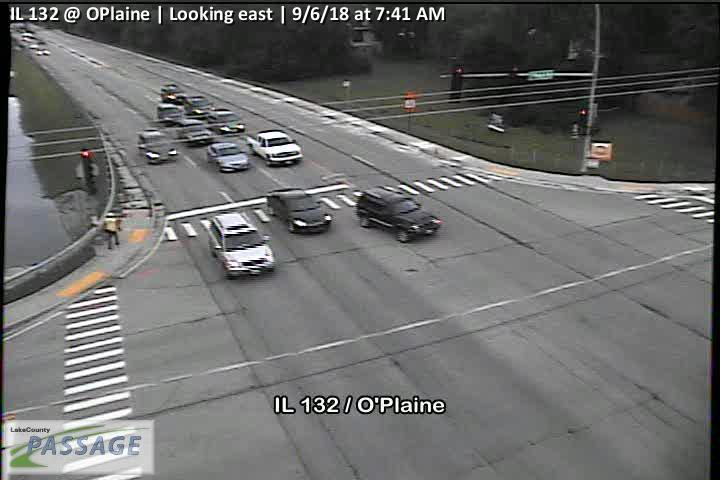SUV: (357, 186, 441, 242), (136, 126, 177, 165), (177, 119, 214, 148), (185, 97, 213, 118), (156, 104, 181, 123), (161, 84, 185, 102)
Sedan: (209, 212, 277, 280), (267, 188, 331, 234), (207, 141, 250, 173), (209, 108, 245, 135)
Truck: (247, 128, 303, 167)
